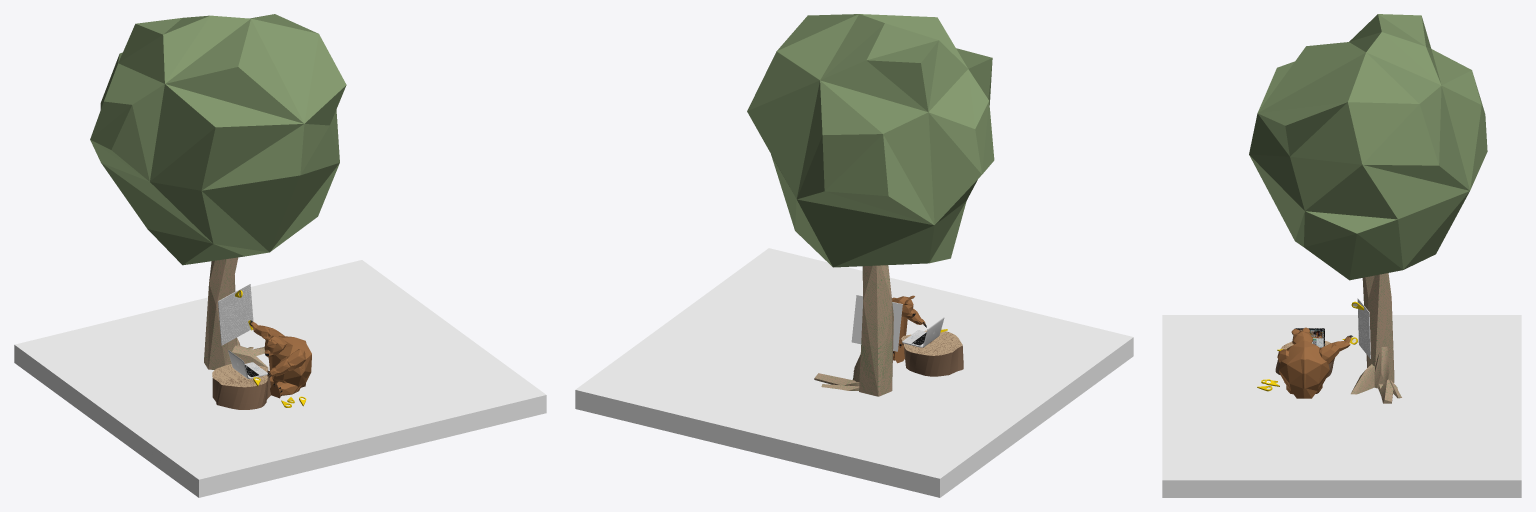
File: maptimebear_12.dae
The picture shows the model from 3 angles, left to right: view 1: azimuth 30°, elevation 25°; view 2: azimuth 150°, elevation 25°; view 3: azimuth 270°, elevation 25°; orthographic projection. The views are drawn at different scales.
Visible parts, largest first — view 1: group_28, crown_1, trunk, AED_tree_stump_on_casters_1 (×2), group_0; view 2: group_28, crown_1, trunk, AED_tree_stump_on_casters_1 (×2), group_0; view 3: group_28, crown_1, trunk, group_21 (×4), trunk_1 (×2), group_0.
Part boxes in pixels (x1=…): group_28: x1=14, y1=260, x2=546, y2=497; crown_1: x1=90, y1=14, x2=346, y2=265; trunk: x1=204, y1=257, x2=238, y2=369; AED_tree_stump_on_casters_1 (×2): x1=212, y1=363, x2=270, y2=409; group_0: x1=218, y1=284, x2=253, y2=345; group_28: x1=575, y1=248, x2=1133, y2=497; crown_1: x1=747, y1=14, x2=994, y2=267; trunk: x1=859, y1=265, x2=893, y2=396; AED_tree_stump_on_casters_1 (×2): x1=901, y1=330, x2=963, y2=376; group_0: x1=851, y1=295, x2=902, y2=351; group_28: x1=1162, y1=315, x2=1521, y2=497; crown_1: x1=1249, y1=14, x2=1487, y2=280; trunk: x1=1362, y1=273, x2=1394, y2=382; group_21 (×4): x1=1279, y1=340, x2=1329, y2=398; trunk_1 (×2): x1=1351, y1=346, x2=1389, y2=394; group_0: x1=1357, y1=298, x2=1370, y2=358.
Bounding box in the file's own units: 64.68 × 59.46 × 65.68.
